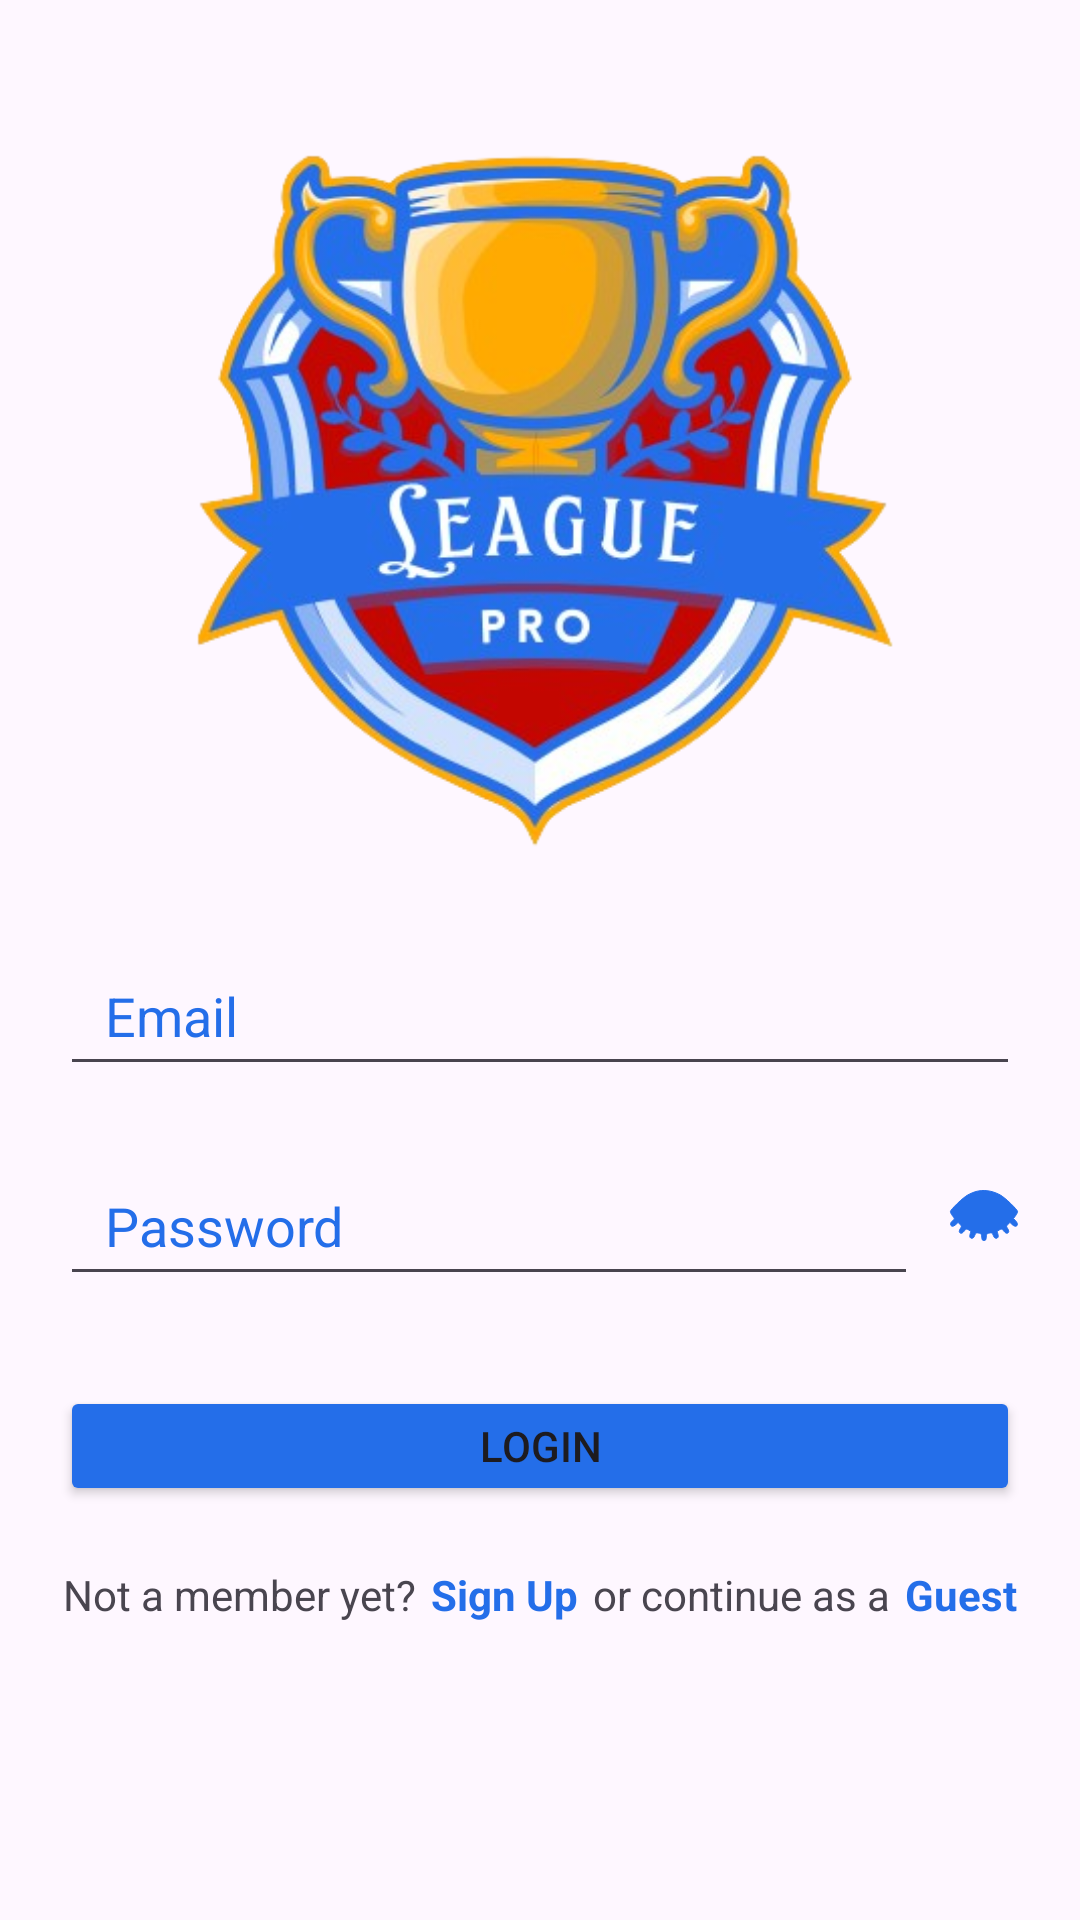

Locate icon controls on the screen. Image size 1080 x 1920, boxes as (x1, y1, x2, y2).
eye closed: (950, 1190, 1018, 1241)
